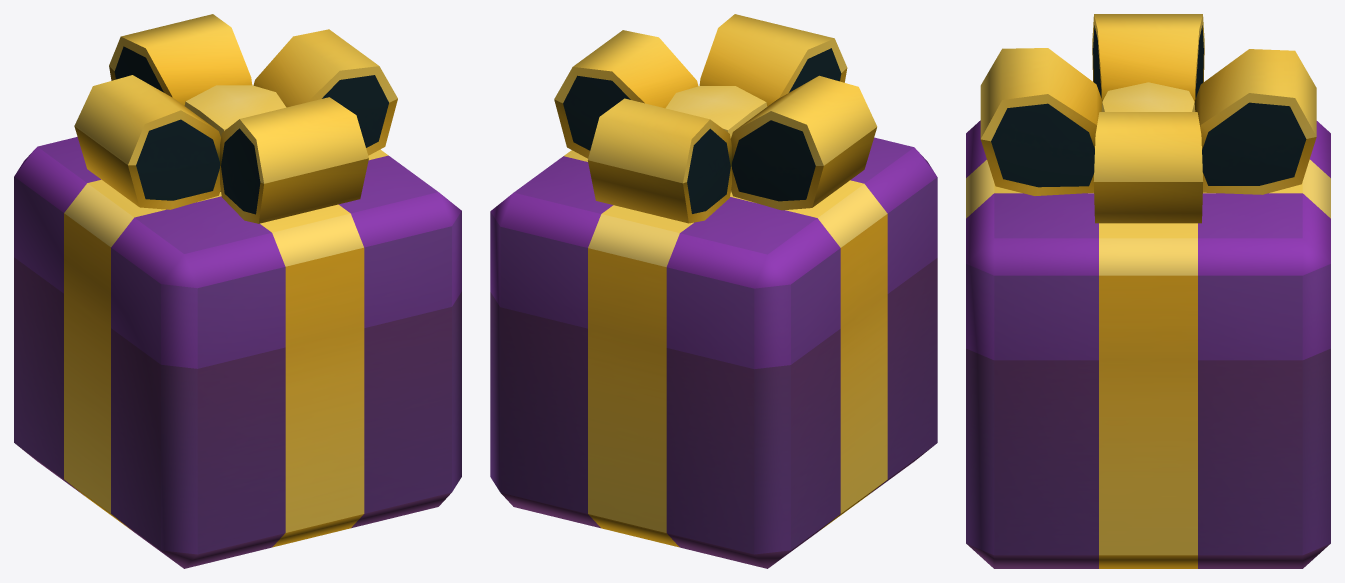
File: presi_square_4_purple.fbx
3 renders of one model, left to right at view 1: azimuth 30°, elevation 25°; view 2: azimuth 150°, elevation 25°; view 3: azimuth 270°, elevation 25°, orthographic. The views are drawn at different scales.
Parts seen in each view (by area): view 1: presi_square_4_purple; view 2: presi_square_4_purple; view 3: presi_square_4_purple.
Part boxes in pixels (<box>): presi_square_4_purple: <box>14,14,461,568</box>; presi_square_4_purple: <box>490,14,937,568</box>; presi_square_4_purple: <box>966,14,1330,568</box>.
Bounding box in the file's own units: 75 × 98 × 75.
1 material, 1 textured.
